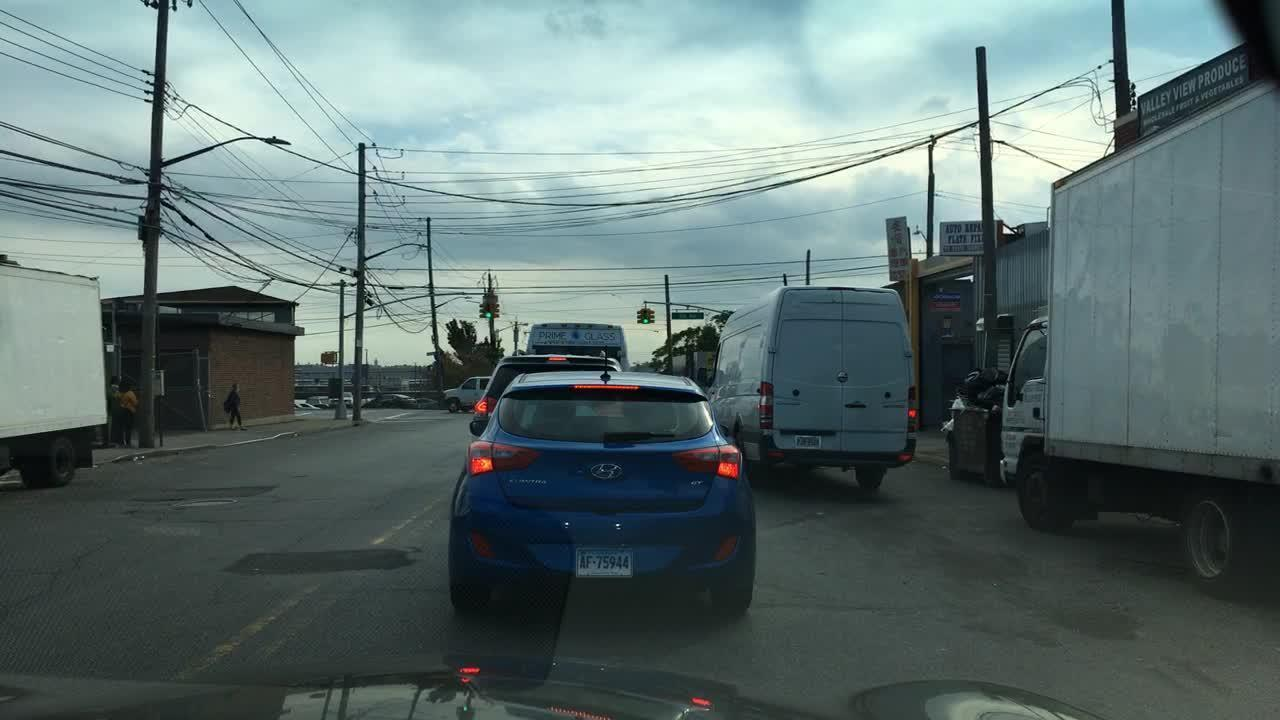Hyundai: (584, 459, 632, 485)
